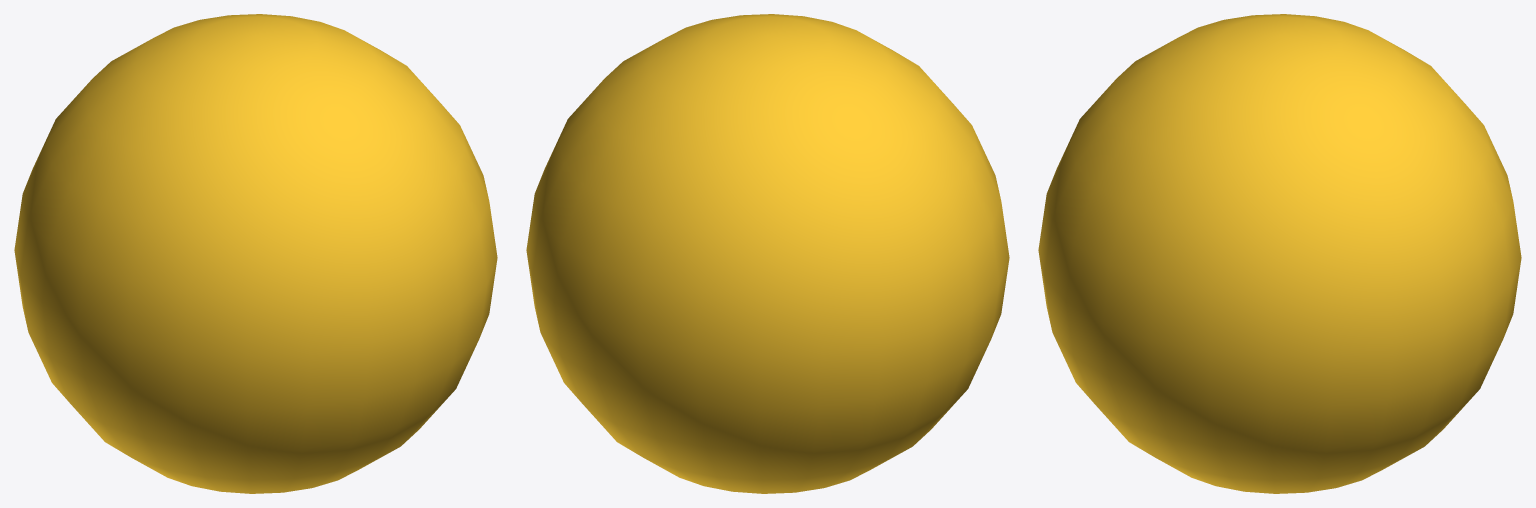
File: sun.obj
3 views of the same model, side by side, from view 1: azimuth 30°, elevation 25°; view 2: azimuth 150°, elevation 25°; view 3: azimuth 270°, elevation 25° (orthographic).
Visible parts, largest first — view 1: Mesh1 Model; view 2: Mesh1 Model; view 3: Mesh1 Model.
Part boxes in pixels (x1,y1,x2,y2): Mesh1 Model: [14, 14, 497, 493]; Mesh1 Model: [526, 14, 1009, 493]; Mesh1 Model: [1038, 14, 1521, 493].
Size of the model in its own units: 218 by 218 by 218.
